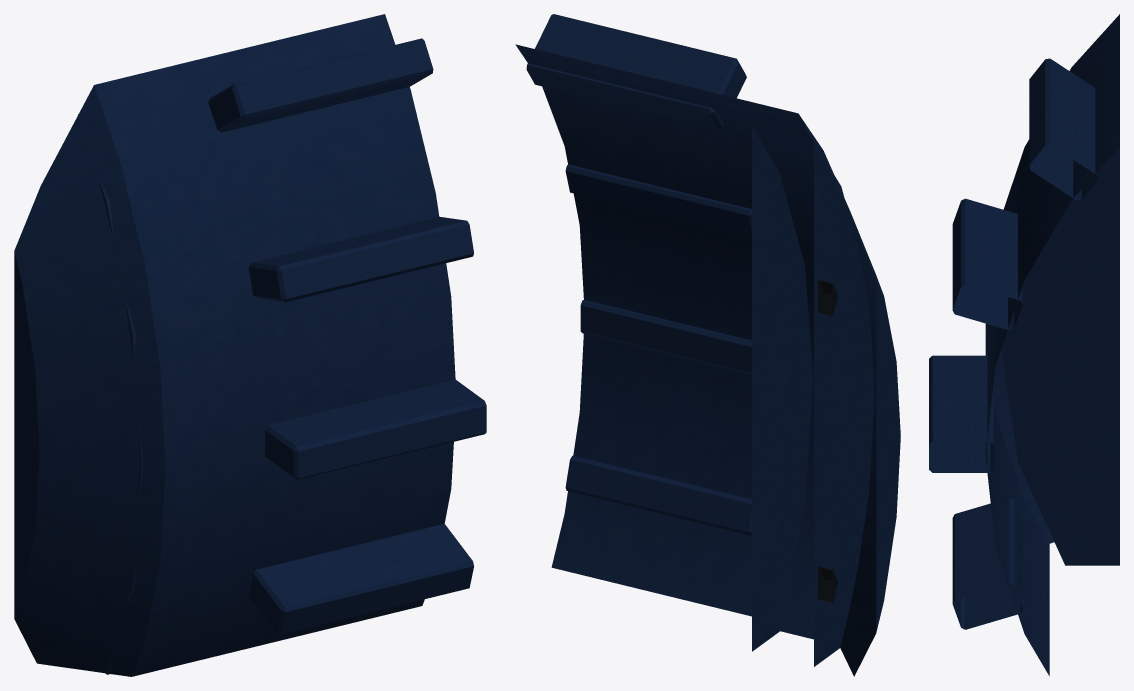
The model's file is cell_33.obj.
The picture shows the model from 3 angles, left to right: view 1: azimuth 30°, elevation 25°; view 2: azimuth 150°, elevation 25°; view 3: azimuth 270°, elevation 25°; orthographic projection. The views are drawn at different scales.
Parts seen in each view (by area): view 1: cell_33; view 2: cell_33; view 3: cell_33.
Boxes of the visible parts, <box> form: cell_33: <box>14,14,486,676</box>; cell_33: <box>515,14,900,676</box>; cell_33: <box>929,14,1119,675</box>.
Bounding box in the file's own units: 0.5342 × 0.7815 × 0.2538.
